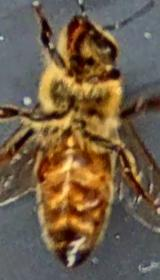varroa_mite: (35, 148, 55, 188)
